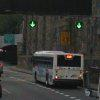Bus: (26, 44, 87, 89)
